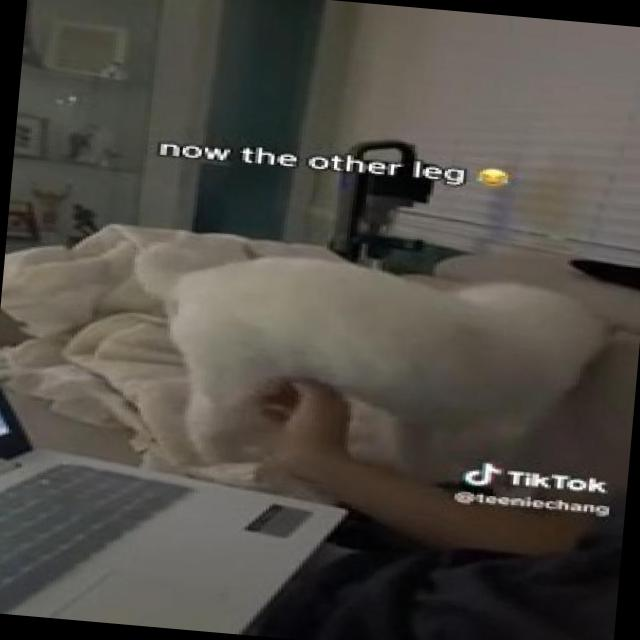dog: (132, 228, 613, 480)
